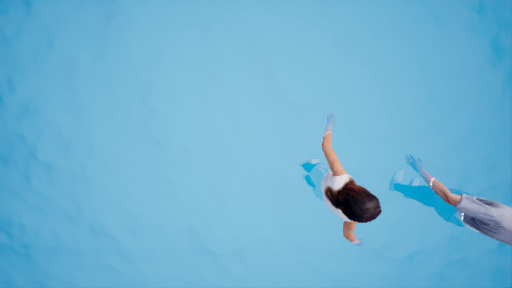person: (388, 154, 512, 244), (299, 110, 375, 248)
